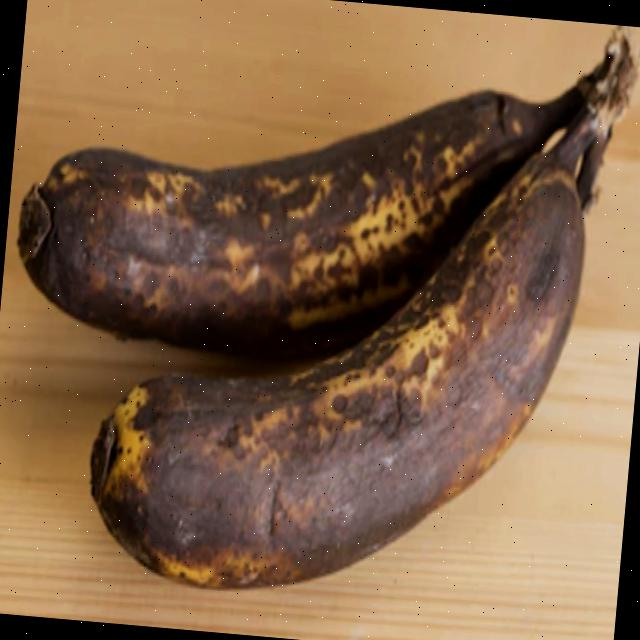rotten banana: (0, 17, 633, 640)
